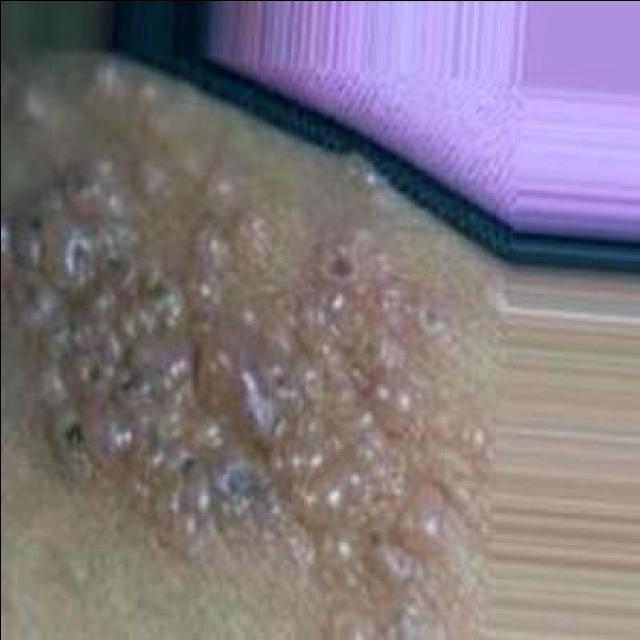Shingles: (0, 57, 452, 640)
